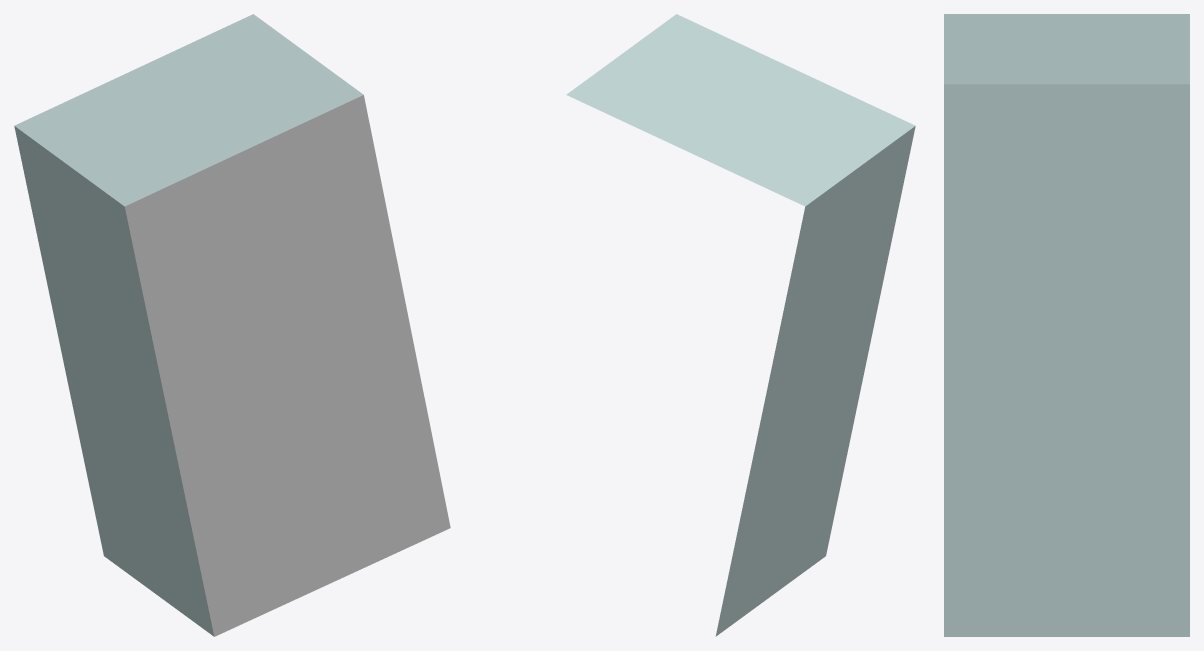
3 renders of one model, left to right at view 1: azimuth 30°, elevation 25°; view 2: azimuth 150°, elevation 25°; view 3: azimuth 270°, elevation 25°, orthographic. The views are drawn at different scales.
Parts seen in each view (by area): view 1: 0_1_0_1_3_0_0_3_2; view 2: 0_1_0_1_3_0_0_3_2; view 3: 0_1_0_1_3_0_0_3_2.
Part boxes in pixels (x1,y1,x2,y2): 0_1_0_1_3_0_0_3_2: [14, 14, 450, 636]; 0_1_0_1_3_0_0_3_2: [566, 14, 915, 636]; 0_1_0_1_3_0_0_3_2: [944, 14, 1189, 636].
Bounding box in the file's own units: 5.11 × 7.58 × 3.
